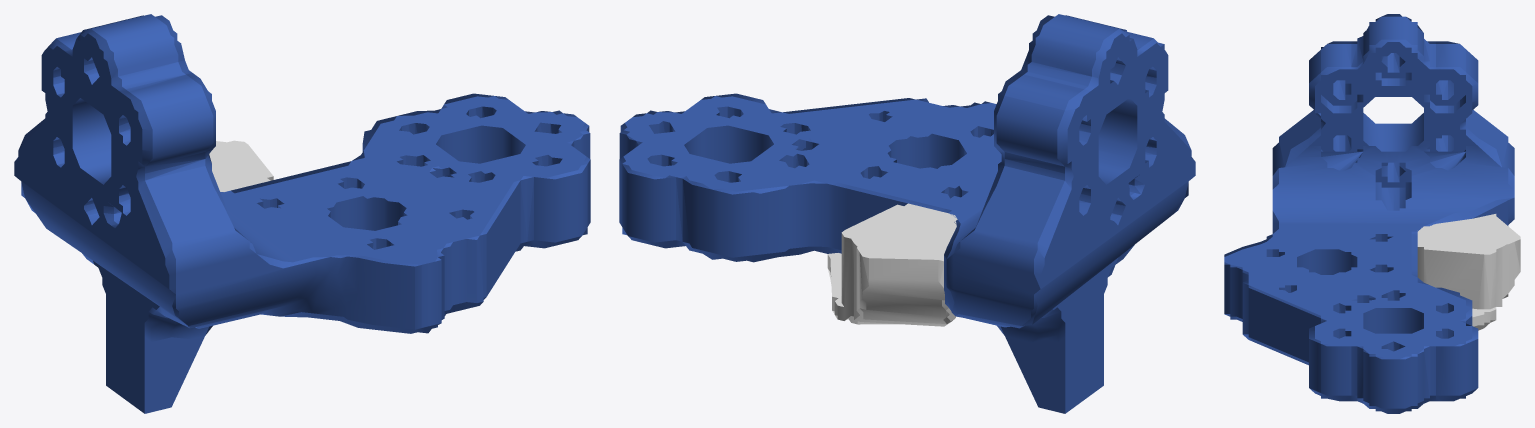
Rendered from right_wrist_pitch.obj.
The picture shows the model from 3 angles, left to right: view 1: azimuth 30°, elevation 25°; view 2: azimuth 150°, elevation 25°; view 3: azimuth 270°, elevation 25°; orthographic projection. The views are drawn at different scales.
Parts seen in each view (by area): view 1: N16_23_P06_01_Link_Wrist, N16_23_P06_03_Endstop_Hand___20; view 2: N16_23_P06_01_Link_Wrist, N16_23_P06_03_Endstop_Hand___20; view 3: N16_23_P06_01_Link_Wrist, N16_23_P06_03_Endstop_Hand___20.
Part boxes in pixels (x1,y1,x2,y2): N16_23_P06_01_Link_Wrist: (14,14,590,413); N16_23_P06_03_Endstop_Hand___20: (209,140,273,191); N16_23_P06_01_Link_Wrist: (619,14,1195,413); N16_23_P06_03_Endstop_Hand___20: (827,203,957,326); N16_23_P06_01_Link_Wrist: (1224,14,1514,413); N16_23_P06_03_Endstop_Hand___20: (1417,214,1520,330).
Bounding box in the file's own units: 0.073 × 0.053 × 0.049.
